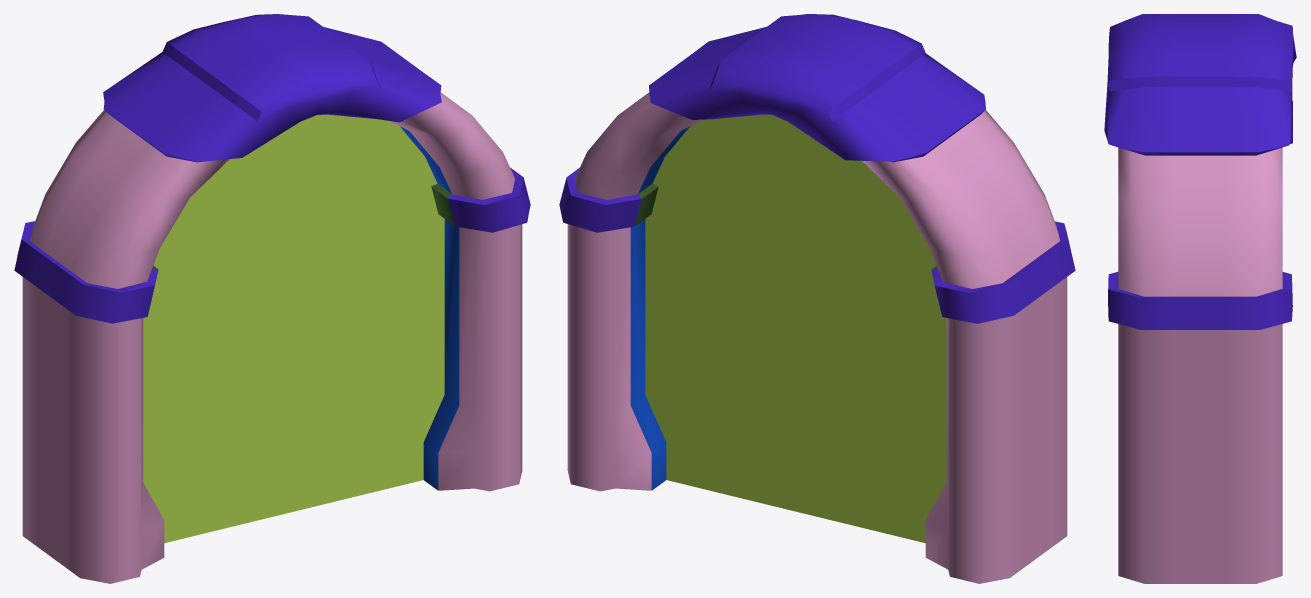
Rendered from front_door.FBX.
3 renders of one model, left to right at view 1: azimuth 30°, elevation 25°; view 2: azimuth 150°, elevation 25°; view 3: azimuth 270°, elevation 25°, orthographic. The views are drawn at different scales.
Visible parts, largest first — view 1: Box001; view 2: Box001; view 3: Box001.
Part boxes in pixels (left/top/right/bottom): Box001: left=14, top=14, right=530, bottom=583; Box001: left=559, top=14, right=1075, bottom=583; Box001: left=1104, top=14, right=1296, bottom=583.
Size of the model in its own units: 21593 by 20990 by 8172.
